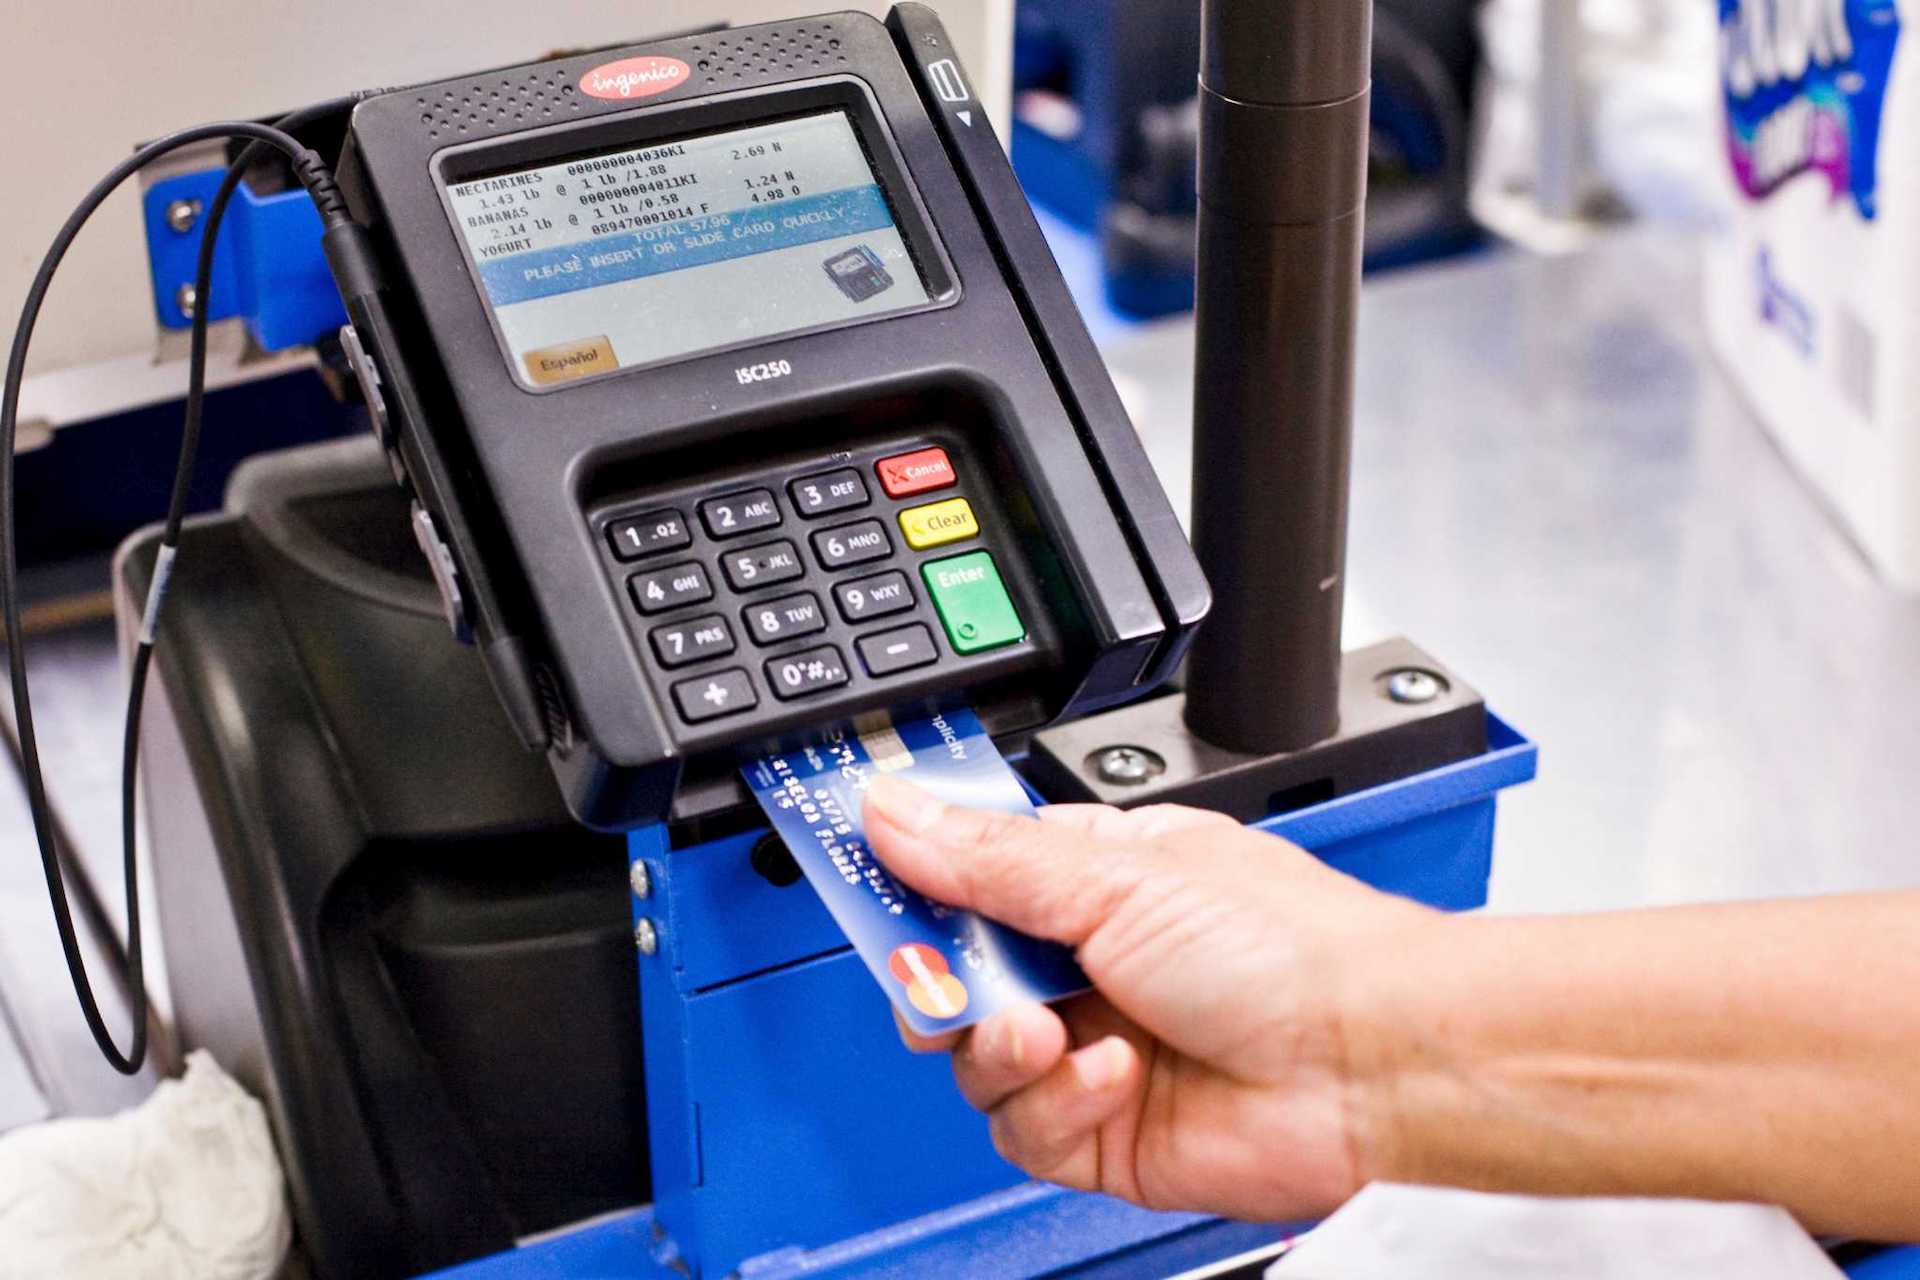tarjeta: (736, 697, 1106, 1040)
